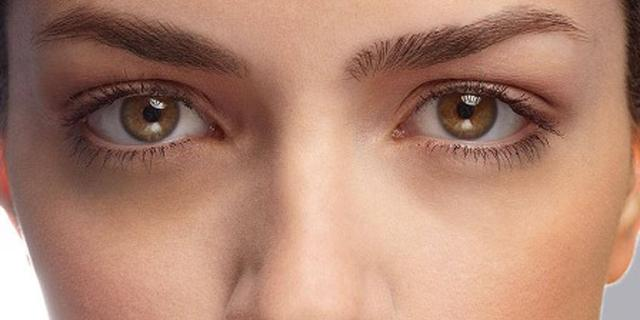Eyebags: (374, 75, 579, 186), (56, 114, 248, 226)
